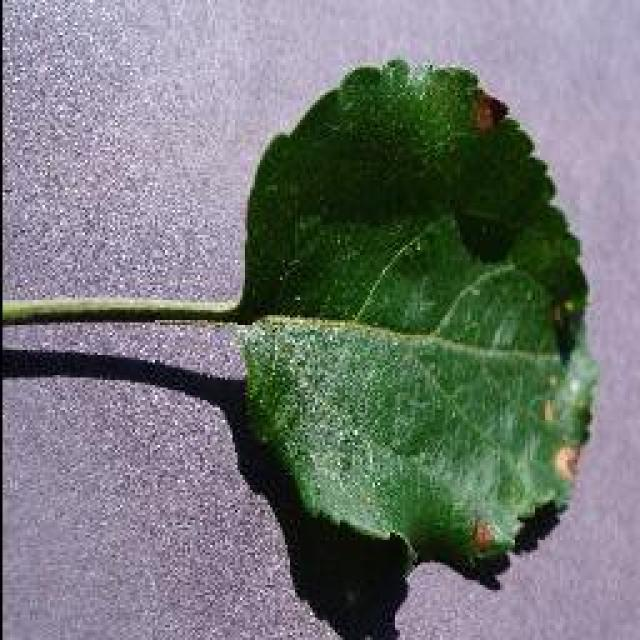Black_rot: (0, 55, 600, 575)
